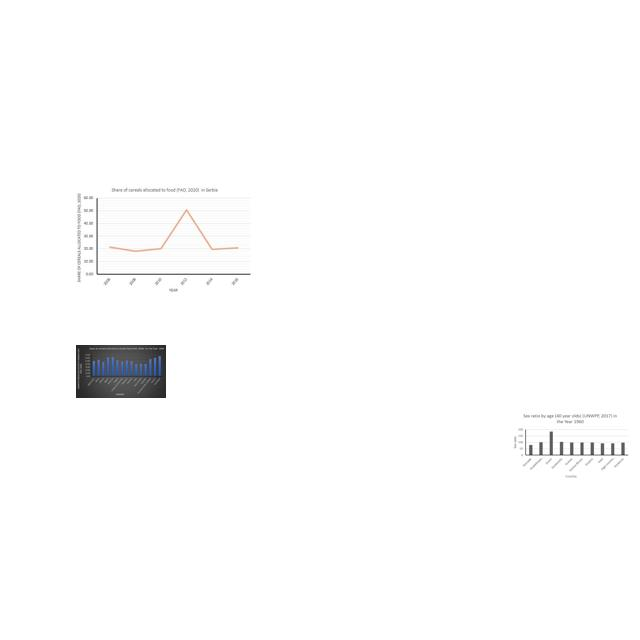Graph: (73, 184, 255, 296), (510, 412, 630, 480), (76, 345, 166, 398)
